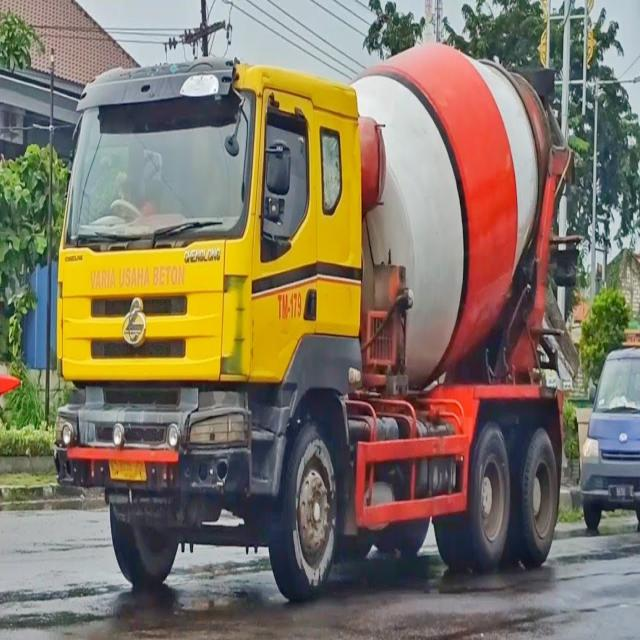truck: (51, 36, 571, 606)
